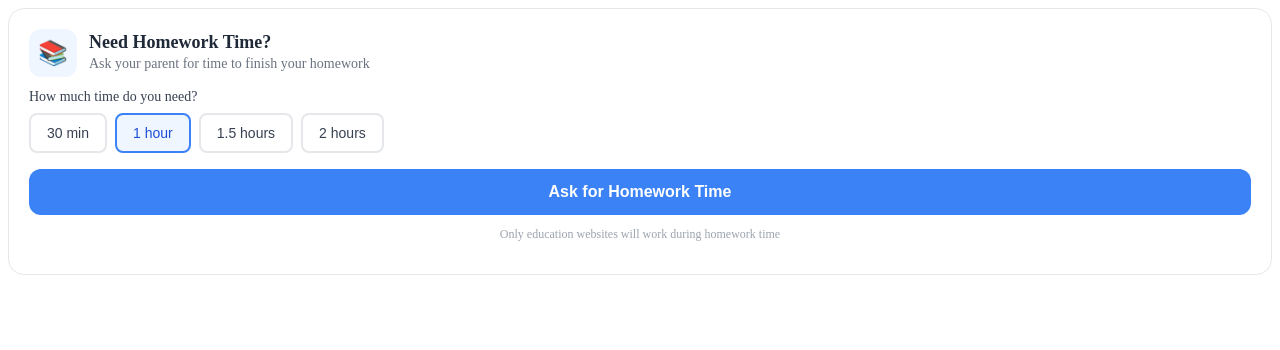
Test case: HomeworkExceptionRequest - Story 32.5 AC4 › request submission › shows error message on failure
The width and height of the screenshot is (1280, 350).
Click the button "Ask for Homework Time".
click(640, 192)  # box [29,169,1251,215]
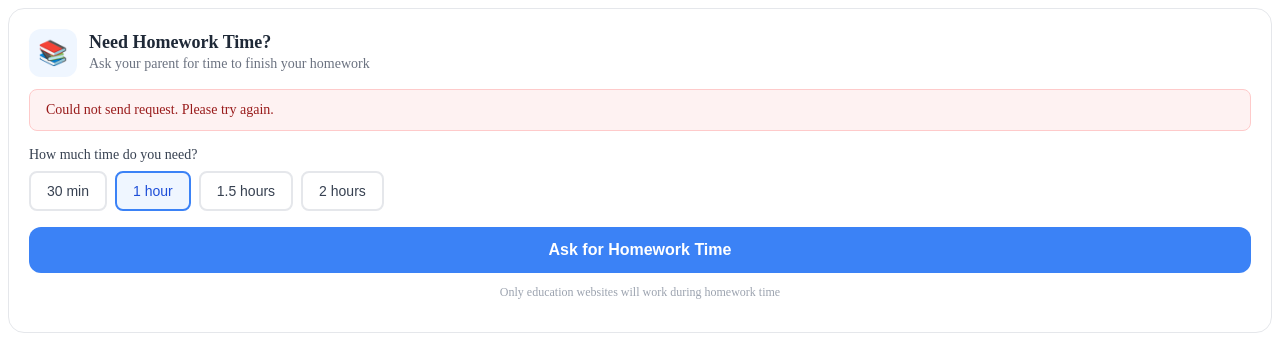
Result: the text "Could not send request. Please try again." is shown at [29,89,1251,131]
